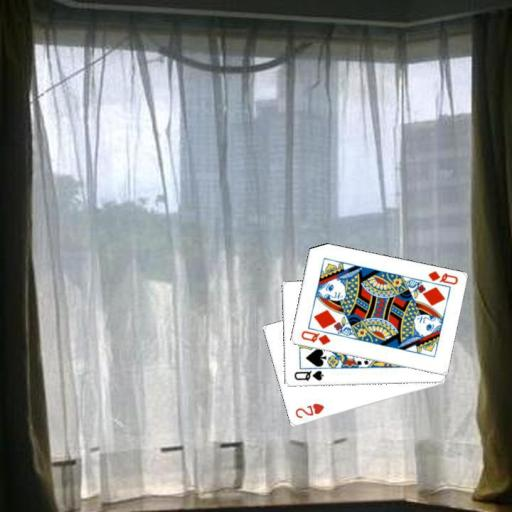2H: (292, 401, 326, 421)
QD: (425, 268, 460, 287), (298, 328, 332, 347)
QS: (291, 368, 325, 383)
